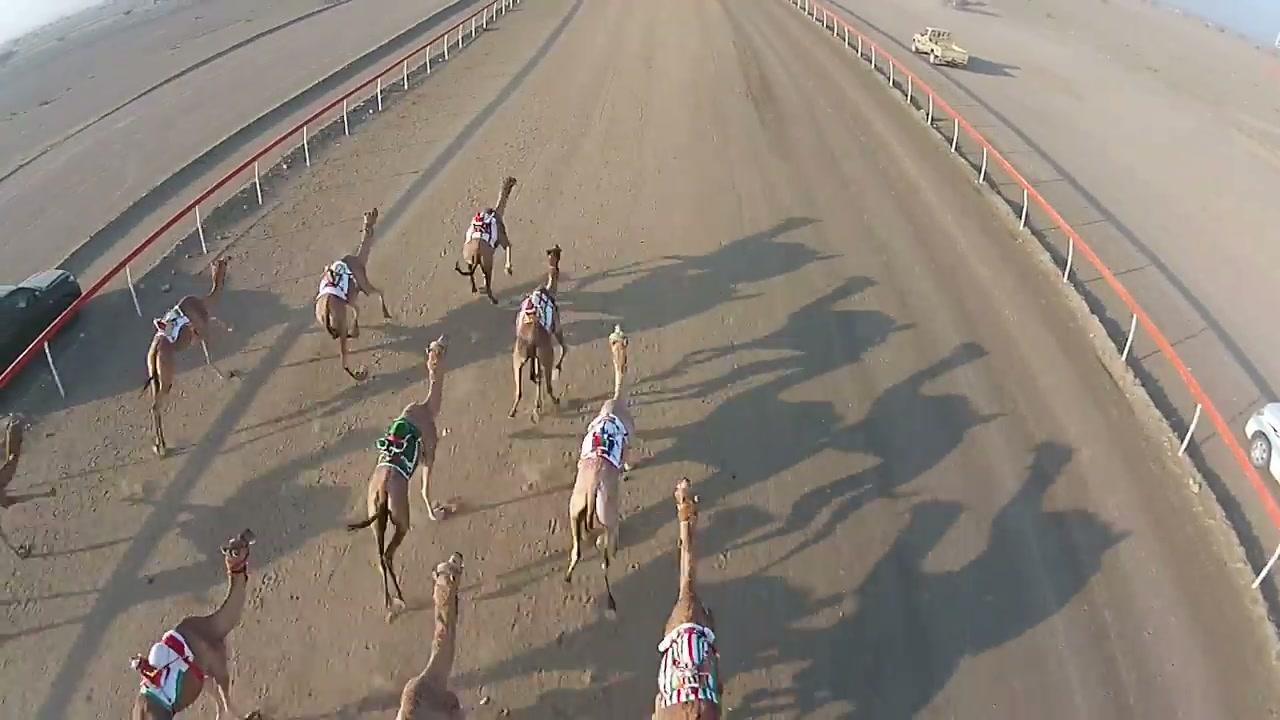animal_foot_print: (446, 415, 609, 719), (249, 395, 357, 719)
